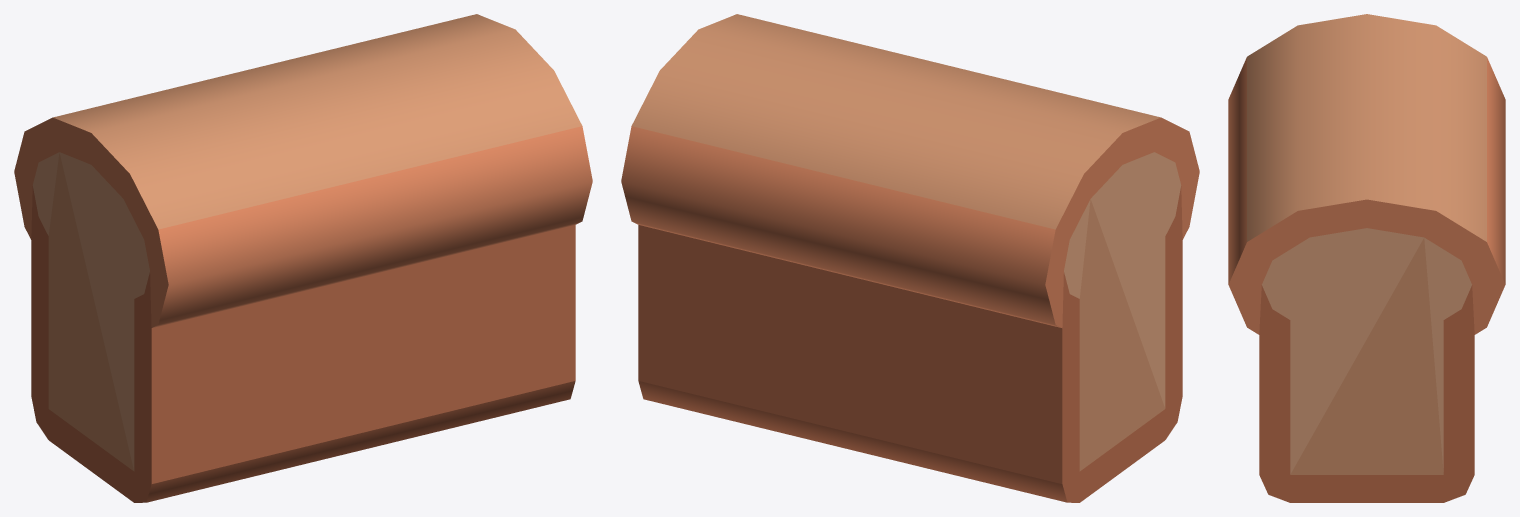
Rendered from pao-forma.glb.
3 views of the same model, side by side, from view 1: azimuth 30°, elevation 25°; view 2: azimuth 150°, elevation 25°; view 3: azimuth 270°, elevation 25° (orthographic). The views are drawn at different scales.
Visible parts, largest first — view 1: loaf; view 2: loaf; view 3: loaf.
Boxes of the visible parts, <box> form: loaf: <box>14,14,592,502</box>; loaf: <box>621,14,1199,502</box>; loaf: <box>1228,14,1505,502</box>.
Bounding box in the file's own units: 0.5797 × 0.4423 × 0.3659.
